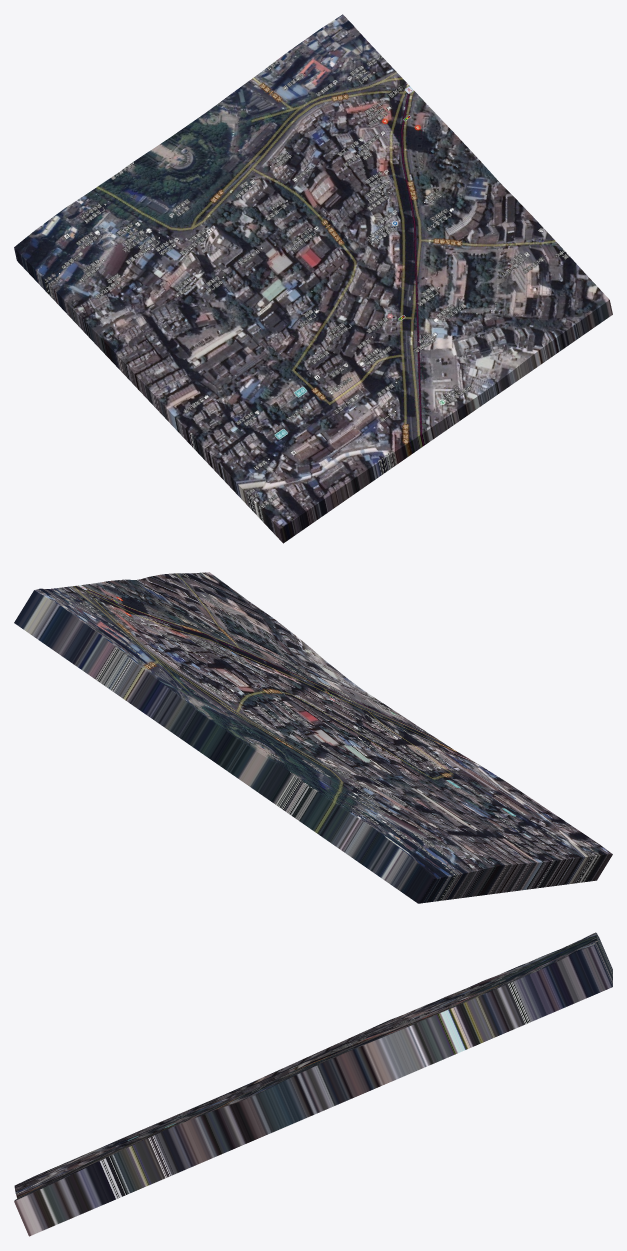
3 renders of one model, top to bottom at view 1: azimuth 30°, elevation 25°; view 2: azimuth 150°, elevation 25°; view 3: azimuth 270°, elevation 25°, orthographic. The views are drawn at different scales.
Parts seen in each view (by area): view 1: 0_5_19; view 2: 0_5_19; view 3: 0_5_19.
Boxes of the visible parts, x1,y1,x2,y2 form: 0_5_19: (14, 14, 612, 543); 0_5_19: (14, 572, 612, 903); 0_5_19: (14, 932, 612, 1236).
Size of the model in its own units: 604 by 464 by 556.
1 material, 1 textured.
